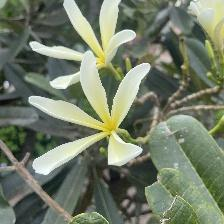champaka: (30, 48, 154, 178), (30, 1, 139, 91)
